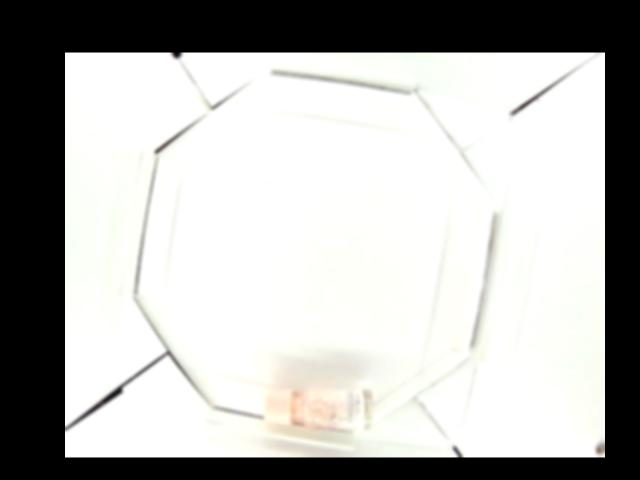Bottle: (264, 386, 371, 430)
